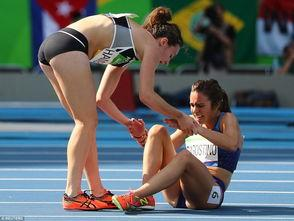bending: (35, 7, 187, 212), (109, 78, 246, 212)
